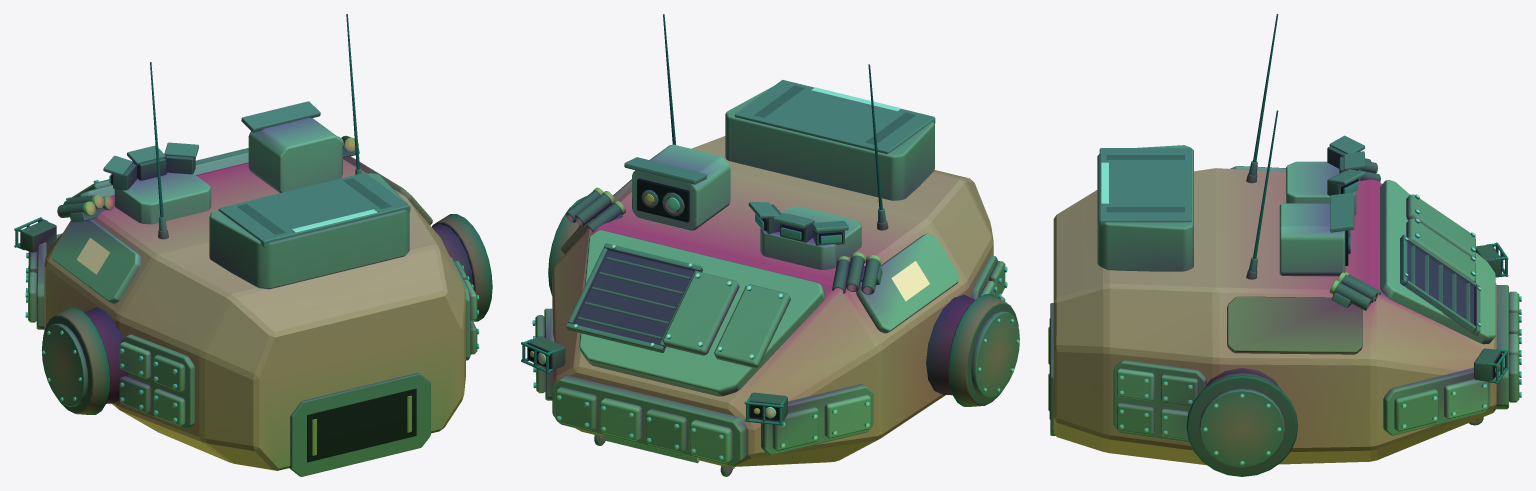
The model's file is core_bradley_busk.glb.
The picture shows the model from 3 angles, left to right: view 1: azimuth 30°, elevation 25°; view 2: azimuth 150°, elevation 25°; view 3: azimuth 270°, elevation 25°; orthographic projection. The views are drawn at different scales.
Parts seen in each view (by area): view 1: Body__armor_sub, Body__gunmetal, Body__armor, Body__dark, Body__bore, Body__chrome, Body__decal, Body__brass, Body__armor_oxide; view 2: Body__armor_sub, Body__armor, Body__dark, Body__gunmetal, Body__bore, Body__chrome, Body__hazard, Body__decal; view 3: Body__armor_sub, Body__gunmetal, Body__armor, Body__dark, Body__armor_oxide, Body__chrome.
Boxes of the visible parts, bbox=[...] form: Body__armor_sub: bbox=[28, 159, 477, 470]; Body__gunmetal: bbox=[14, 101, 430, 476]; Body__armor: bbox=[28, 117, 477, 425]; Body__dark: bbox=[20, 14, 492, 414]; Body__bore: bbox=[111, 174, 416, 462]; Body__chrome: bbox=[25, 180, 479, 422]; Body__decal: bbox=[76, 238, 109, 274]; Body__brass: bbox=[83, 136, 358, 216]; Body__armor_oxide: bbox=[343, 156, 432, 225]; Body__armor_sub: bbox=[535, 86, 1005, 467]; Body__armor: bbox=[536, 144, 1005, 463]; Body__dark: bbox=[527, 14, 1018, 421]; Body__gunmetal: bbox=[521, 79, 1019, 476]; Body__bore: bbox=[528, 178, 842, 419]; Body__chrome: bbox=[532, 244, 1019, 468]; Body__hazard: bbox=[602, 87, 900, 463]; Body__decal: bbox=[891, 261, 929, 301]; Body__armor_sub: bbox=[1053, 145, 1519, 465]; Body__gunmetal: bbox=[1050, 135, 1508, 467]; Body__armor: bbox=[1116, 161, 1519, 440]; Body__dark: bbox=[1106, 14, 1501, 476]; Body__armor_oxide: bbox=[1227, 296, 1362, 354]; Body__chrome: bbox=[1119, 194, 1521, 465].
Size of the model in its own units: 2.17 by 1.84 by 2.16.
